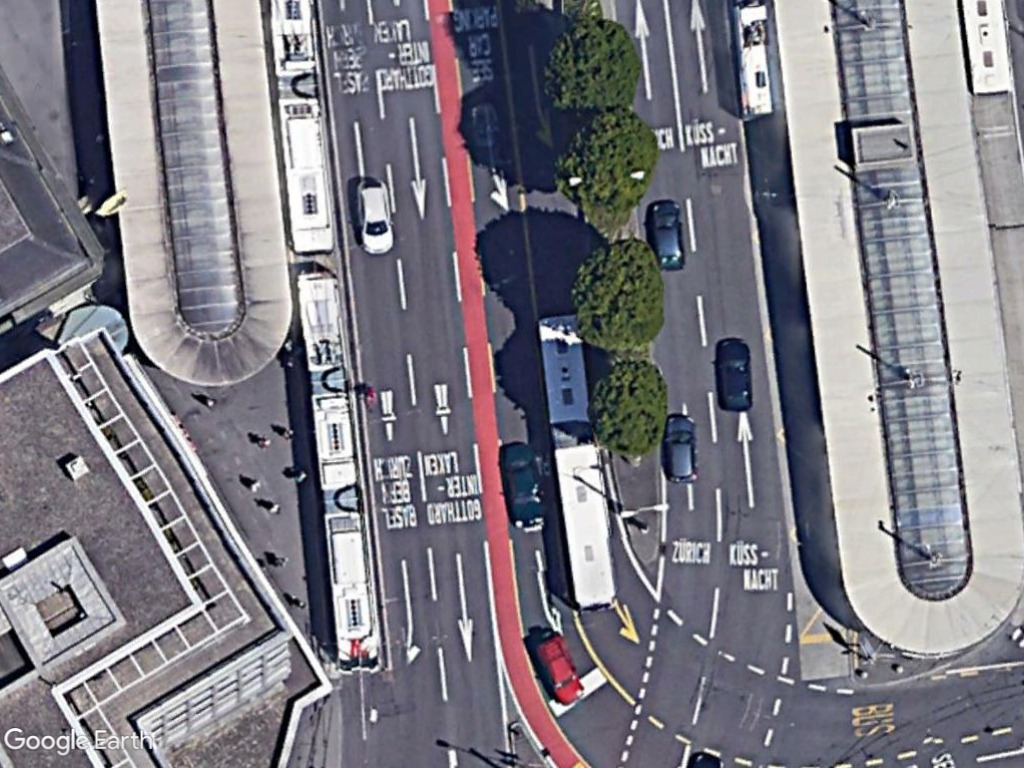bus: (551, 438, 622, 611), (536, 311, 591, 430)
car: (496, 440, 547, 536), (533, 634, 587, 706), (647, 195, 687, 274), (356, 175, 394, 258), (665, 413, 700, 485)
